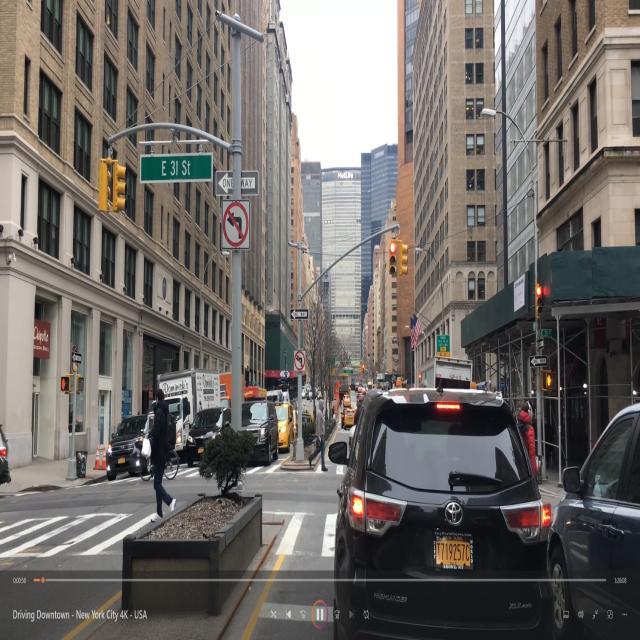Crosswalk: (1, 509, 167, 554)
